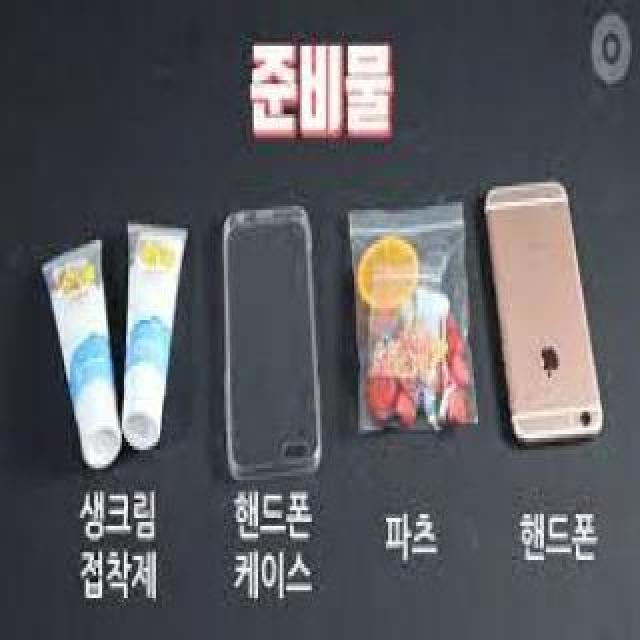smart phone: (483, 157, 640, 503)
